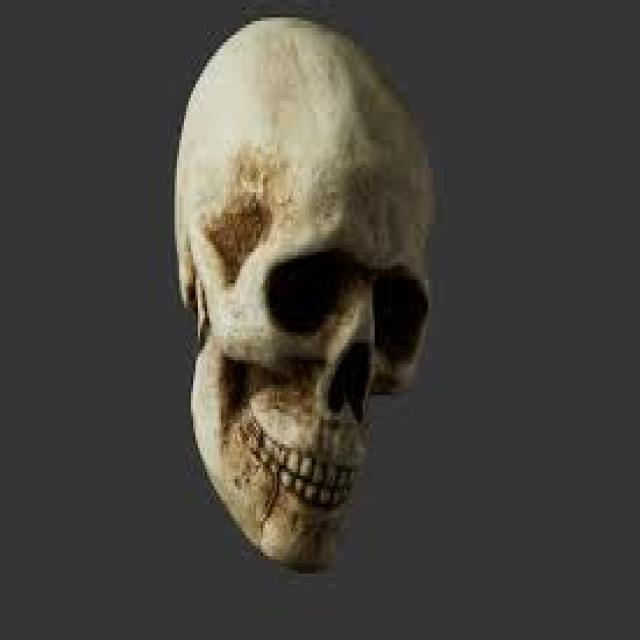skull: (160, 0, 440, 588)
